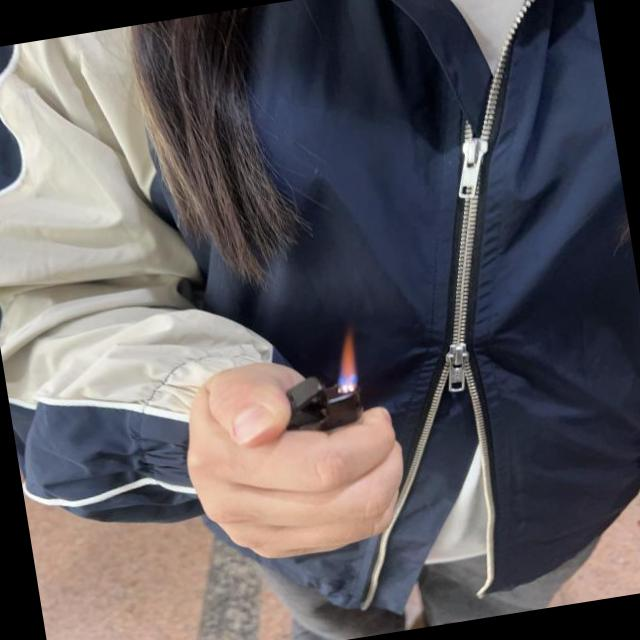Fire: (331, 322, 362, 396)
